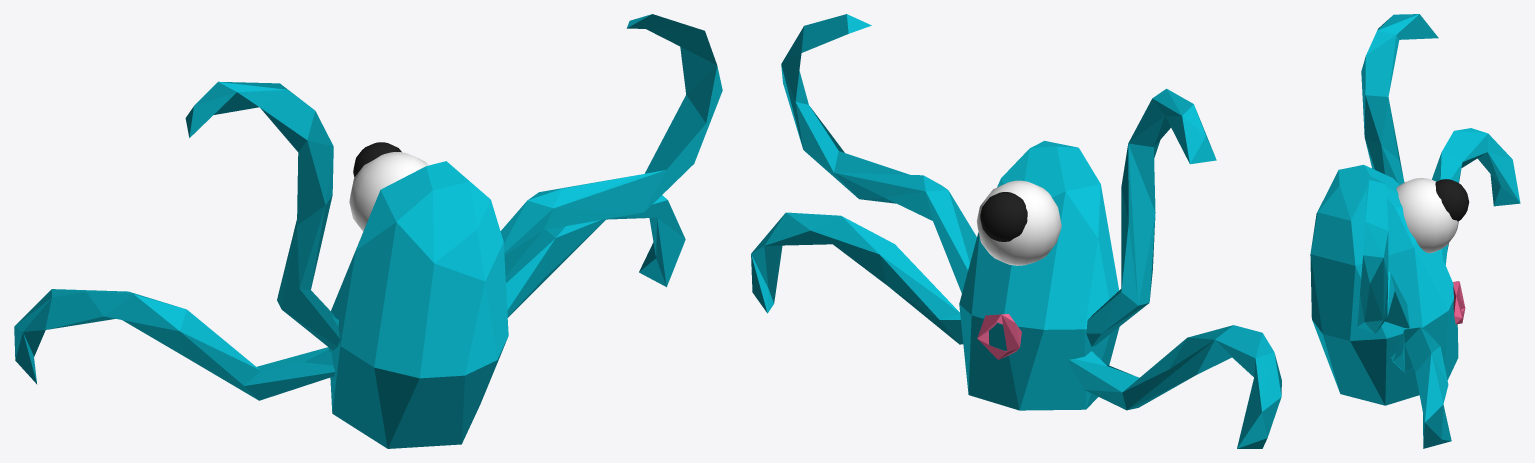
Rendered from alien.fbx.
3 views of the same model, side by side, from view 1: azimuth 30°, elevation 25°; view 2: azimuth 150°, elevation 25°; view 3: azimuth 270°, elevation 25° (orthographic). The views are drawn at different scales.
Visible parts, largest first — view 1: group2031792733, Sphere; view 2: group2031792733, Sphere, Sphere_1; view 3: group2031792733, Sphere, Sphere_1.
Boxes of the visible parts, x1,y1,x2,y2 form: group2031792733: [14, 14, 722, 448]; Sphere: [349, 152, 428, 231]; group2031792733: [751, 14, 1281, 448]; Sphere: [976, 180, 1061, 265]; Sphere_1: [980, 192, 1027, 241]; group2031792733: [1310, 14, 1520, 448]; Sphere: [1396, 178, 1458, 253]; Sphere_1: [1435, 179, 1469, 221].
Bounding box in the file's own units: 0.5099 × 0.2915 × 0.1828.
